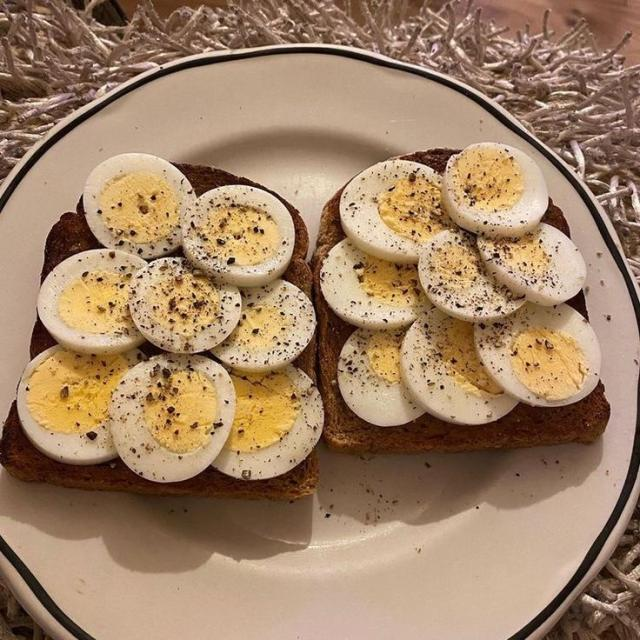eggs: (33, 152, 296, 480), (323, 144, 591, 429)
